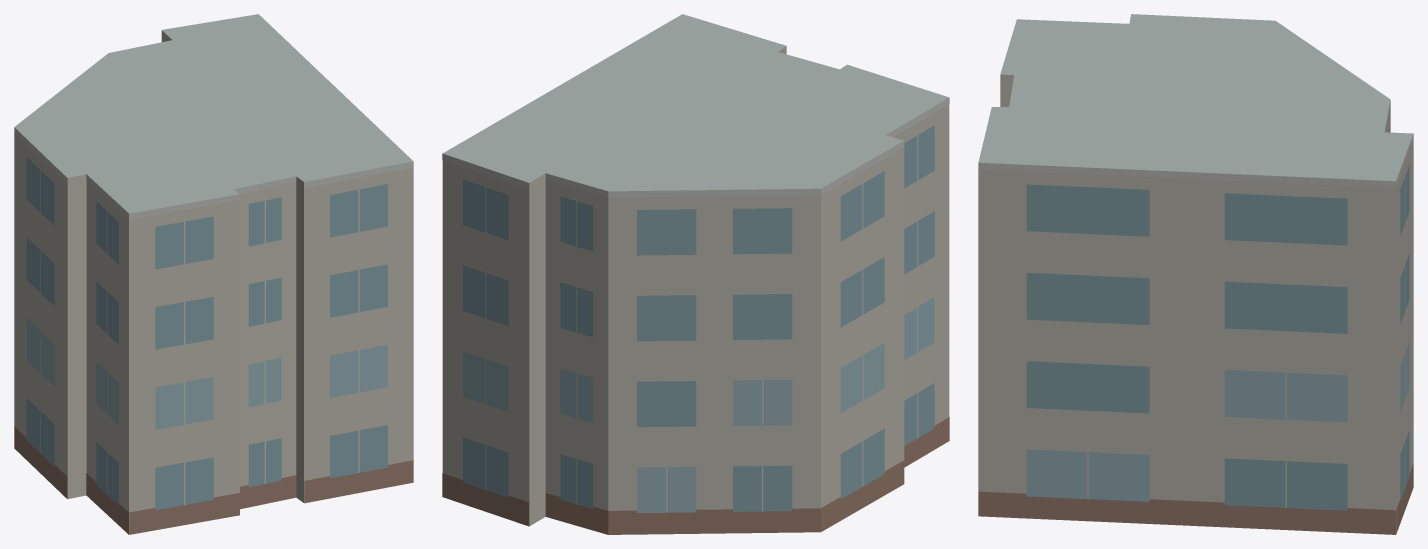
The model's file is survey-upis-32971571.glb.
3 renders of one model, left to right at view 1: azimuth 30°, elevation 25°; view 2: azimuth 150°, elevation 25°; view 3: azimuth 270°, elevation 25°, orthographic. The views are drawn at different scales.
Parts seen in each view (by area): view 1: survey-upis-32971571.tmp; view 2: survey-upis-32971571.tmp; view 3: survey-upis-32971571.tmp.
Part boxes in pixels (bbox=[...]): survey-upis-32971571.tmp: bbox=[14, 14, 413, 534]; survey-upis-32971571.tmp: bbox=[442, 14, 949, 534]; survey-upis-32971571.tmp: bbox=[978, 14, 1413, 534].
Bounding box in the file's own units: 13 × 12.8 × 14.29.
